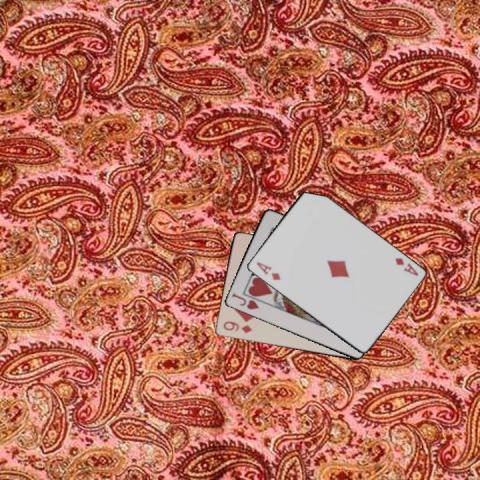9d: (220, 318, 253, 334)
Ad: (253, 259, 282, 281), (392, 255, 420, 277)
Jh: (229, 290, 260, 311)
